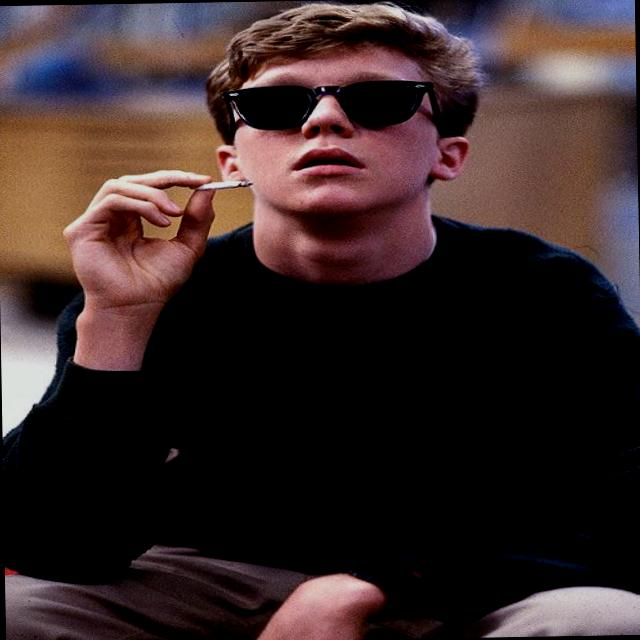cigarette: (169, 172, 265, 192)
